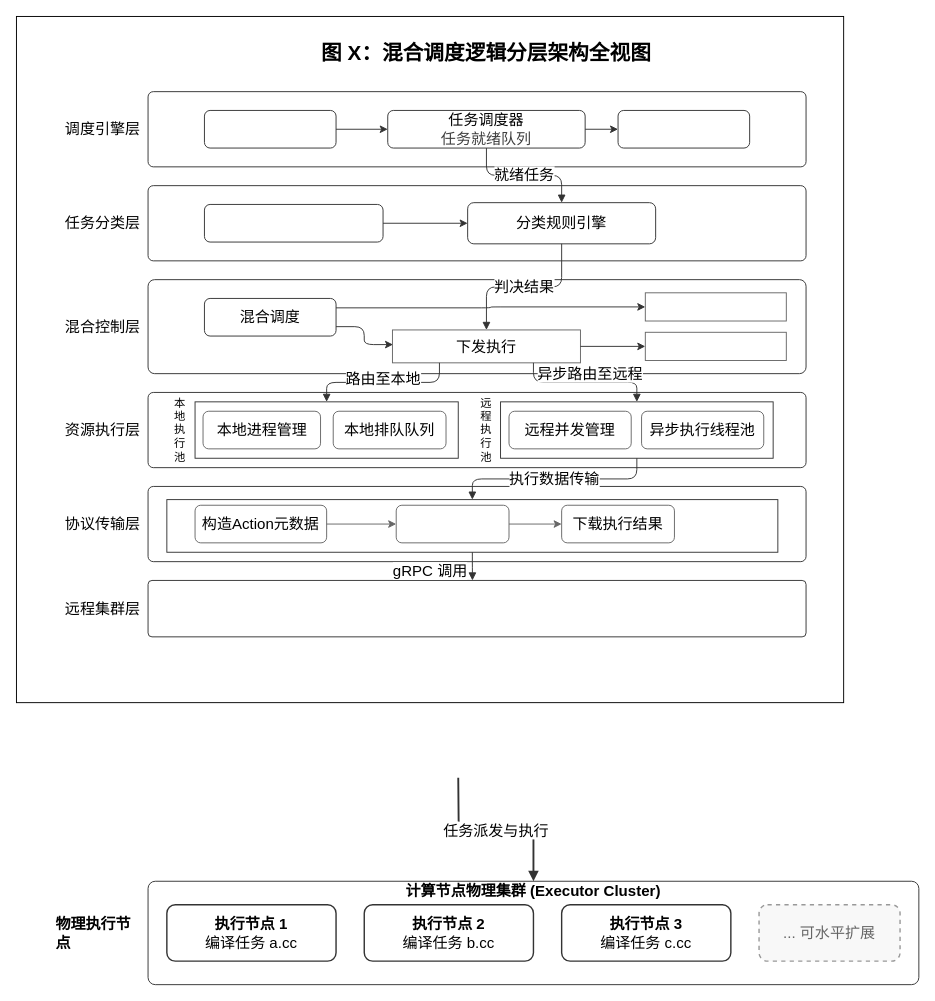
This 935x1001 diagram has some shape labels left out. The shapes that lost their labels are listed below. From the top down, each one's centre as x and y in pixels, then its label:
At pixel 270 129: "生成构建图".
At pixel 683 129: "获取就绪任务 优先级最高的任务".
At pixel 293 223: "任务分类器 判断任务是否远程执行".
At pixel 715 306: "资源容量计算".
At pixel 715 345: "同步监听双池状态".
At pixel 452 523: "下发远程执行".
At pixel 476 608: "远程执行和远程缓存".
